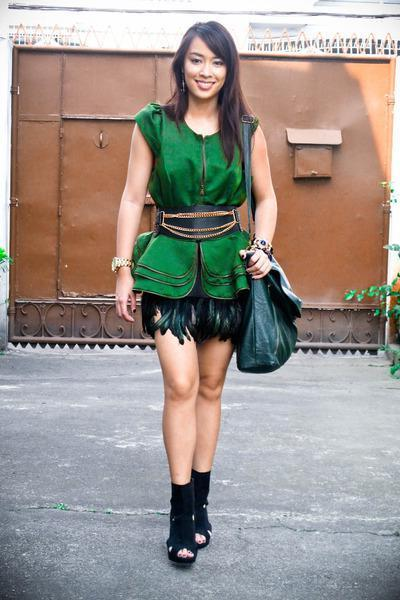dress: (128, 103, 263, 298)
